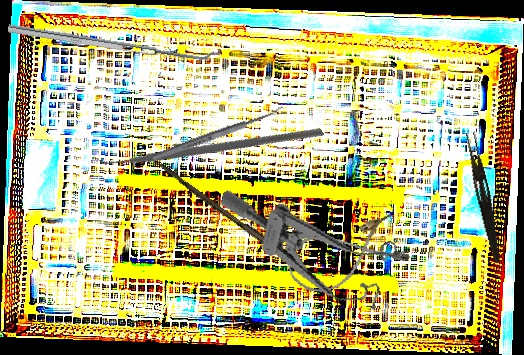Cannula: (281, 209, 412, 301)
Chopper: (88, 26, 325, 258)
Dressing Forceps: (461, 131, 507, 264)
Spatula Surgical: (7, 16, 215, 65)
Speculum: (204, 188, 411, 316)
Surgical Spoon: (156, 163, 310, 273), (151, 105, 286, 163)
